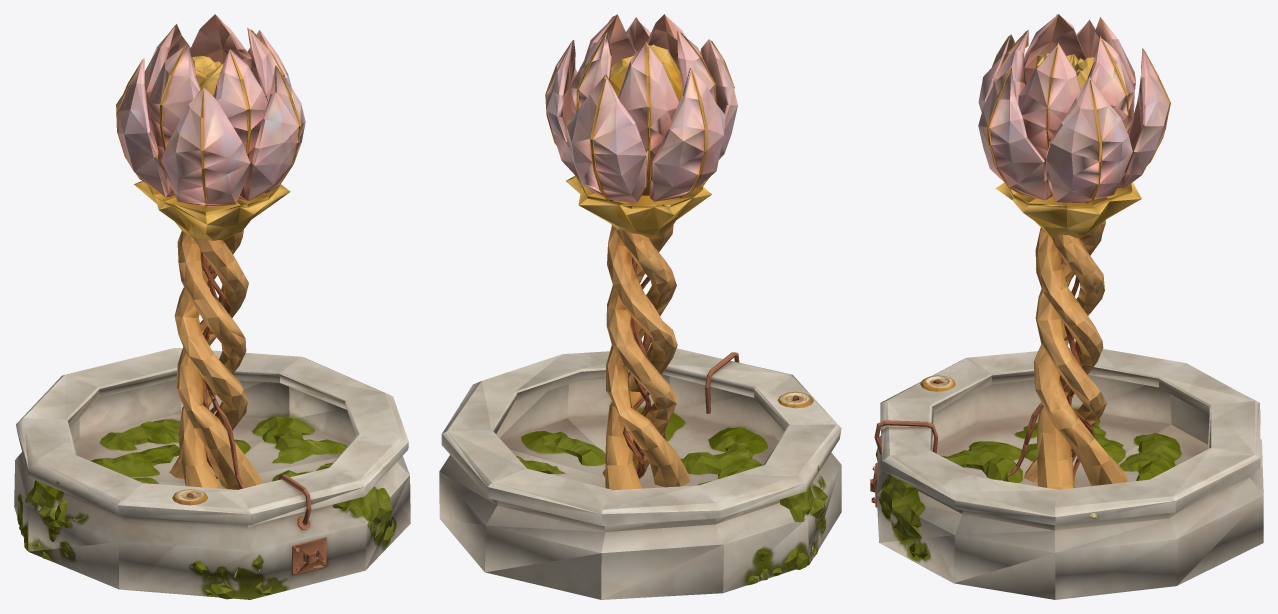
Rendered from lanterne_grande.glb.
3 renders of one model, left to right at view 1: azimuth 30°, elevation 25°; view 2: azimuth 150°, elevation 25°; view 3: azimuth 270°, elevation 25°, orthographic.
Parts seen in each view (by area): view 1: pied, petale_mesh1, petale_mesh3, petale_mesh9, petale_mesh2, petale_mesh0, petale_mesh6, petale_mesh4, petale_mesh8, Coeur; view 2: pied, petale_mesh7, petale_mesh9, petale_mesh8, petale_mesh5, petale_mesh1, petale_mesh6, Coeur, petale_mesh0, petale_mesh4, petale_mesh2; view 3: pied, petale_mesh5, petale_mesh3, petale_mesh4, petale_mesh7, petale_mesh6, petale_mesh0, petale_mesh2, petale_mesh8, petale_mesh1, Coeur.
Boxes of the visible parts, box(x1,y1,x2,y2) form: pied: box(14, 181, 410, 599); petale_mesh1: box(161, 86, 250, 207); petale_mesh3: box(238, 65, 305, 200); petale_mesh9: box(116, 58, 174, 197); petale_mesh2: box(213, 49, 267, 182); petale_mesh0: box(148, 43, 200, 162); petale_mesh6: box(190, 14, 251, 69); petale_mesh4: box(247, 28, 284, 101); petale_mesh8: box(144, 24, 181, 136); Coeur: box(158, 55, 223, 173); pied: box(439, 175, 841, 599); petale_mesh7: box(566, 74, 646, 203); petale_mesh9: box(649, 68, 725, 201); petale_mesh8: box(618, 41, 678, 192); petale_mesh5: box(545, 40, 579, 179); petale_mesh1: box(700, 39, 737, 159); petale_mesh6: box(570, 32, 612, 116); Coeur: box(610, 44, 682, 195); petale_mesh0: box(677, 30, 716, 103); petale_mesh4: box(584, 14, 636, 66); petale_mesh2: box(647, 14, 686, 70); pied: box(870, 182, 1263, 599); petale_mesh5: box(1046, 76, 1132, 203); petale_mesh3: box(978, 66, 1052, 200); petale_mesh4: box(1018, 42, 1080, 168); petale_mesh7: box(1117, 48, 1170, 188); petale_mesh6: box(1087, 35, 1135, 135); petale_mesh0: box(1024, 14, 1085, 85); petale_mesh2: box(993, 29, 1028, 103); petale_mesh8: box(1090, 17, 1135, 86); petale_mesh1: box(978, 34, 1015, 112); Coeur: box(1035, 53, 1094, 193).
Size of the model in its own units: 2.11 by 2.8 by 2.04.
1 material, 1 textured.
